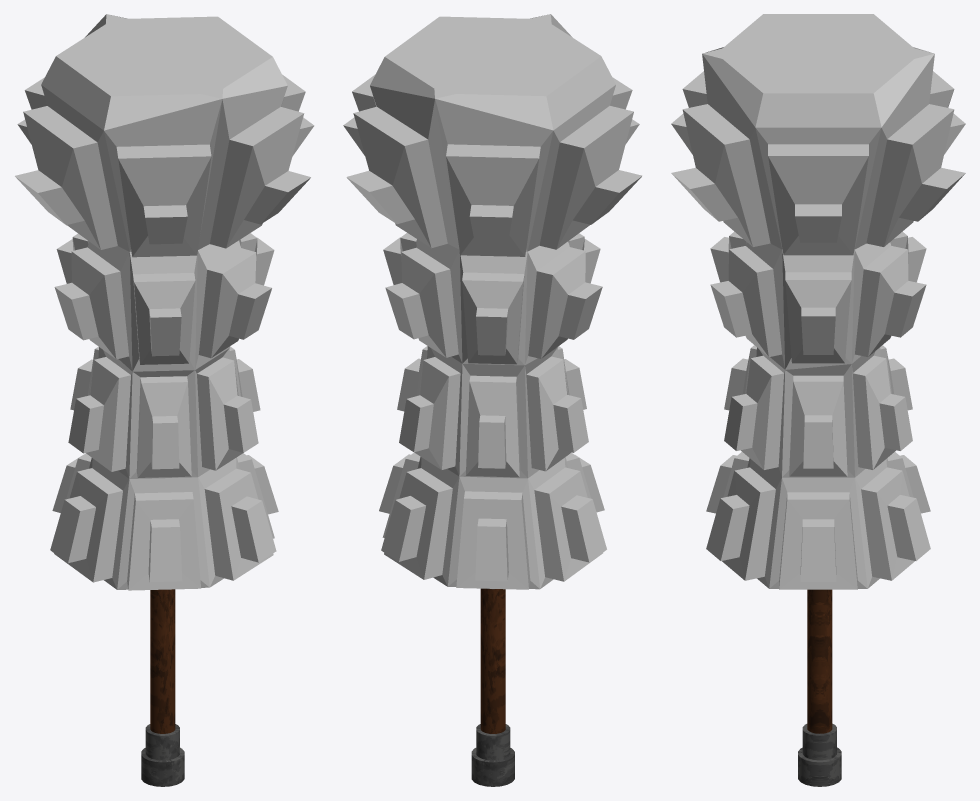
Rendered from 4티어 충부공 철퇴.fbx.
The picture shows the model from 3 angles, left to right: view 1: azimuth 30°, elevation 25°; view 2: azimuth 150°, elevation 25°; view 3: azimuth 270°, elevation 25°; orthographic projection.
Visible parts, largest first — view 1: Box001, 12; view 2: Box001, 12; view 3: Box001, 12.
Boxes of the visible parts, x1,y1,x2,y2 form: Box001: (15,14,314,590); 12: (141,589,184,786); Box001: (343,14,642,589); 12: (471,588,514,786); Box001: (671,14,965,589); 12: (798,589,841,786).
Bounding box in the file's own units: 40.01 × 99.71 × 36.79.
